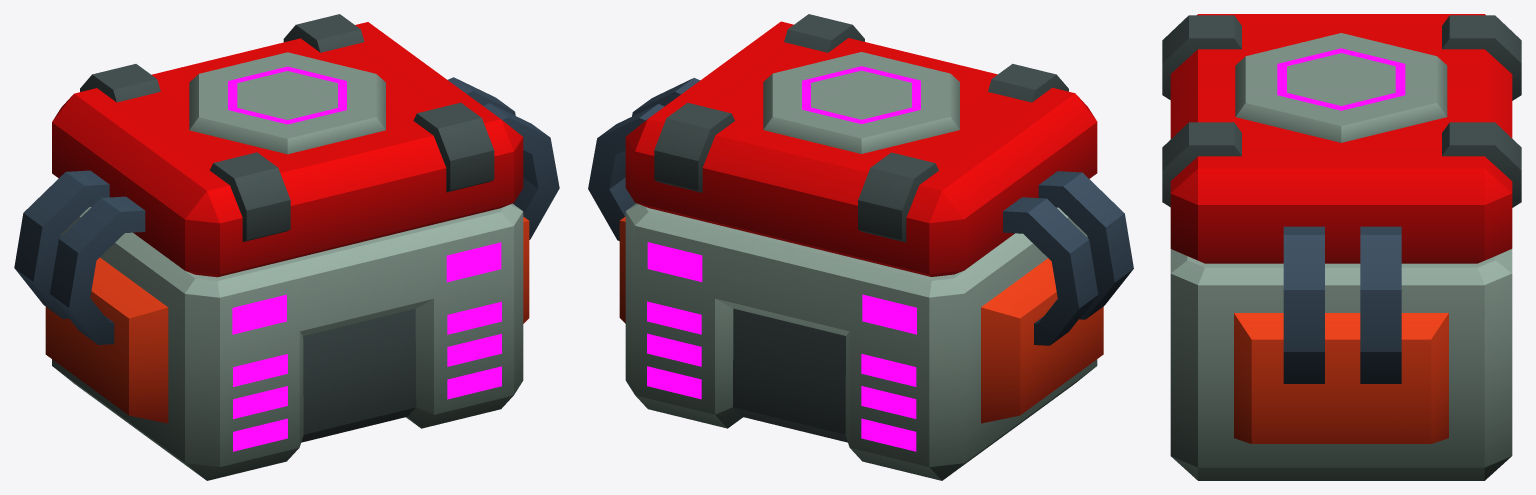
The picture shows the model from 3 angles, left to right: view 1: azimuth 30°, elevation 25°; view 2: azimuth 150°, elevation 25°; view 3: azimuth 270°, elevation 25°; orthographic projection. The views are drawn at different scales.
Parts seen in each view (by area): view 1: box.005; view 2: box.005; view 3: box.005.
Part boxes in pixels (bbox=[...]): box.005: bbox=[14, 14, 559, 480]; box.005: bbox=[588, 14, 1133, 480]; box.005: bbox=[1162, 14, 1521, 480].
Size of the model in its own units: 178 by 104 by 105.
